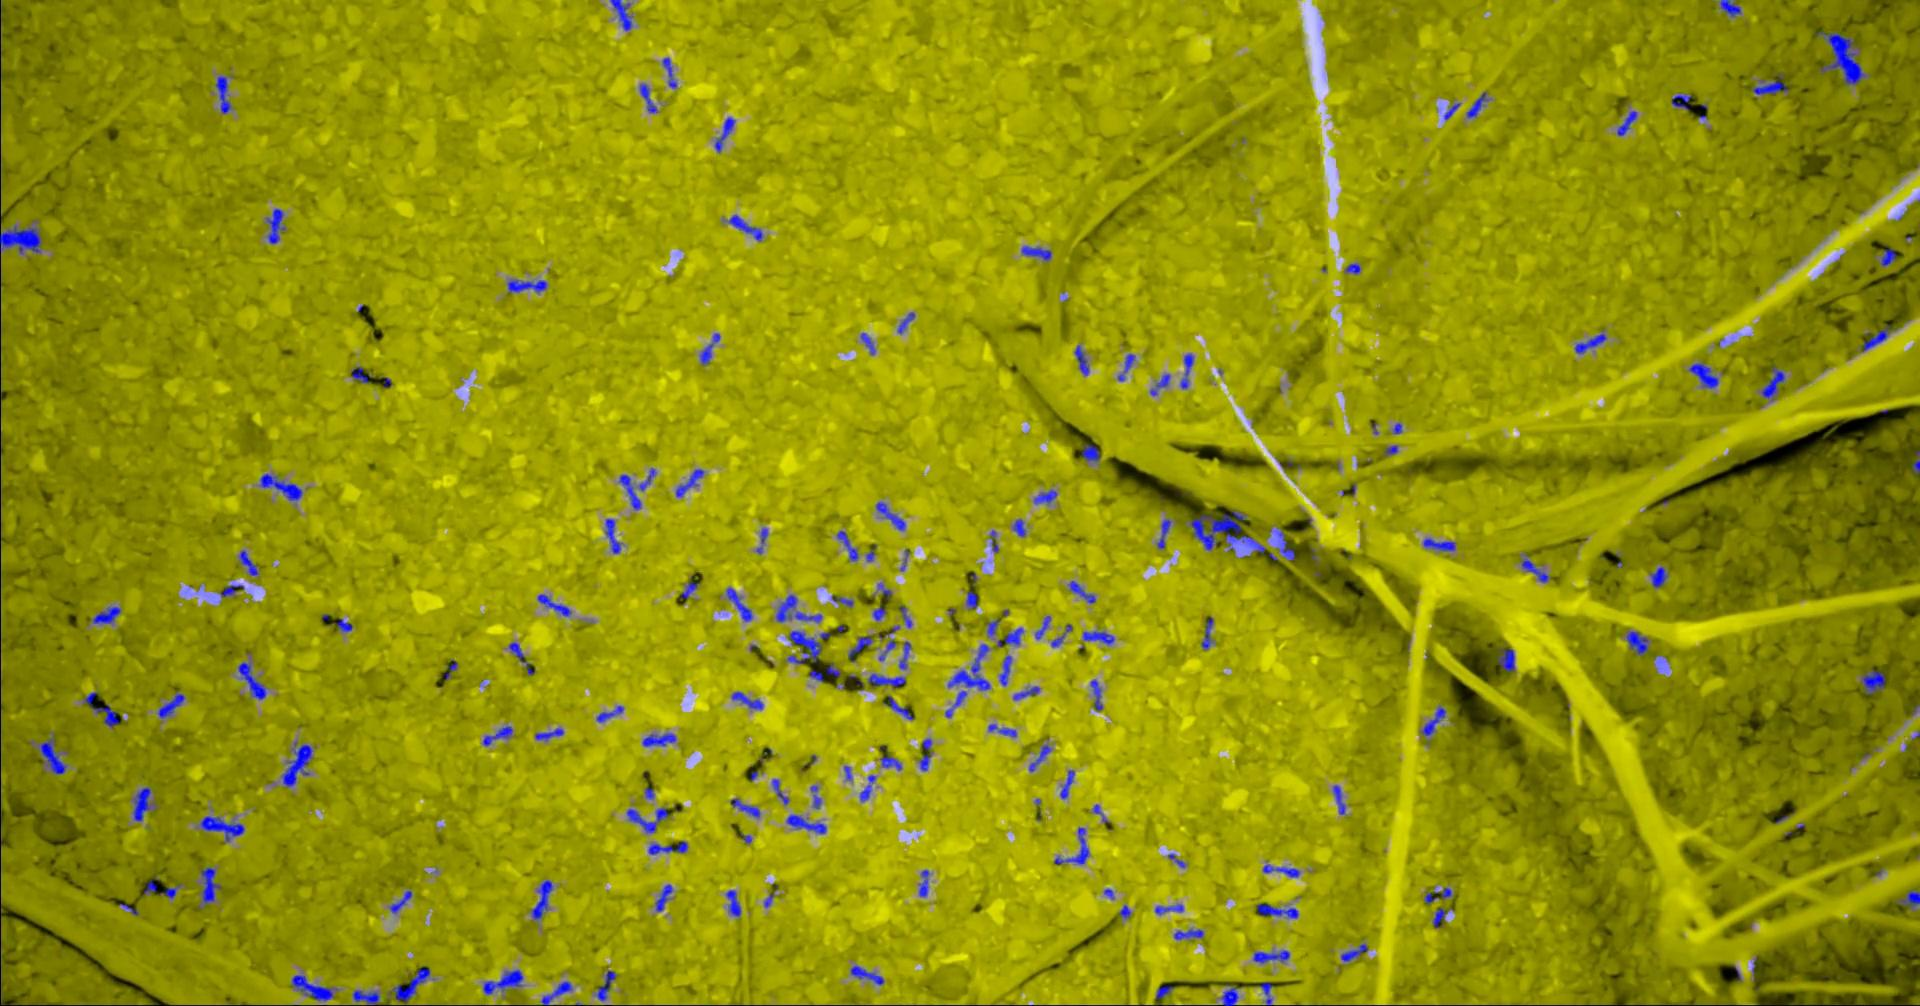ant: (1815, 30, 1865, 84), (947, 643, 989, 688), (282, 741, 312, 786), (1053, 826, 1088, 864), (84, 691, 118, 728), (392, 967, 429, 1001), (775, 594, 822, 621), (259, 473, 302, 500), (0, 225, 41, 253), (787, 630, 822, 663), (199, 815, 244, 841), (38, 734, 66, 774), (626, 807, 668, 832), (291, 974, 331, 1000), (237, 662, 265, 699), (483, 969, 522, 995), (728, 213, 762, 241), (531, 879, 552, 920), (726, 587, 752, 621), (875, 502, 905, 530), (508, 641, 533, 674), (618, 474, 641, 509), (1761, 365, 1784, 399), (676, 467, 703, 495), (1860, 324, 1890, 351), (1521, 553, 1548, 582), (201, 866, 221, 904), (1752, 72, 1788, 94), (786, 814, 825, 833), (714, 116, 734, 152), (1688, 363, 1718, 387), (541, 981, 571, 1005), (537, 594, 570, 616), (1421, 706, 1445, 735), (610, 0, 632, 30), (836, 530, 858, 560), (885, 695, 913, 719), (265, 208, 284, 243), (698, 333, 719, 365), (1575, 333, 1606, 353), (157, 694, 184, 718), (1256, 903, 1298, 918), (1275, 527, 1294, 560), (850, 965, 883, 984), (132, 786, 150, 821), (215, 76, 231, 113), (809, 662, 841, 681), (483, 725, 512, 746), (730, 796, 759, 817), (848, 636, 872, 661), (945, 690, 966, 716), (1029, 744, 1050, 771), (596, 970, 615, 1000), (1862, 669, 1884, 694), (648, 840, 687, 854), (1465, 91, 1487, 117), (1069, 580, 1095, 602), (731, 691, 762, 709), (996, 627, 1023, 647), (1340, 942, 1368, 962), (604, 518, 620, 553), (389, 890, 411, 913), (1625, 631, 1647, 655), (507, 279, 546, 292), (639, 84, 657, 112), (91, 606, 119, 624), (239, 550, 258, 575), (867, 673, 905, 686), (1262, 864, 1299, 876), (1021, 245, 1051, 260), (596, 705, 623, 721), (858, 774, 875, 801), (1423, 887, 1451, 903), (1617, 111, 1636, 135), (771, 779, 789, 804), (1253, 950, 1289, 963), (1117, 353, 1134, 380), (655, 884, 672, 911), (1149, 373, 1170, 395), (1180, 353, 1192, 387), (662, 57, 676, 88), (1074, 344, 1088, 375), (1059, 770, 1074, 798), (643, 733, 676, 746), (1432, 907, 1453, 927), (1156, 518, 1170, 547), (637, 467, 655, 490), (352, 989, 378, 1005), (1200, 617, 1213, 649), (1082, 631, 1114, 644), (1090, 680, 1102, 711), (918, 738, 931, 770), (725, 890, 740, 916), (897, 311, 914, 333), (877, 639, 895, 661), (1220, 983, 1238, 1005), (681, 575, 697, 598), (1034, 615, 1050, 638), (1497, 648, 1514, 671), (987, 723, 1016, 735), (1332, 785, 1345, 814), (1423, 539, 1455, 550), (1079, 443, 1100, 461), (535, 728, 563, 741), (860, 332, 875, 354), (879, 754, 902, 770), (1671, 91, 1690, 109), (898, 641, 910, 668), (1032, 489, 1057, 503), (1258, 981, 1272, 1005), (1719, 0, 1740, 17), (350, 366, 371, 382), (1650, 567, 1666, 587), (999, 655, 1011, 685), (1897, 890, 1919, 906), (1013, 686, 1039, 699), (1154, 904, 1183, 915), (1173, 929, 1203, 939), (1879, 248, 1896, 265), (756, 527, 767, 553), (159, 884, 179, 898), (218, 584, 243, 596), (918, 869, 928, 895), (830, 594, 853, 606), (899, 605, 910, 627), (810, 785, 822, 808), (985, 619, 999, 636), (143, 876, 157, 894), (1156, 984, 1173, 998), (1012, 518, 1025, 536), (335, 619, 352, 631), (872, 605, 885, 620), (966, 591, 977, 608), (1117, 904, 1130, 918), (1911, 450, 1919, 473), (1343, 263, 1359, 273)
